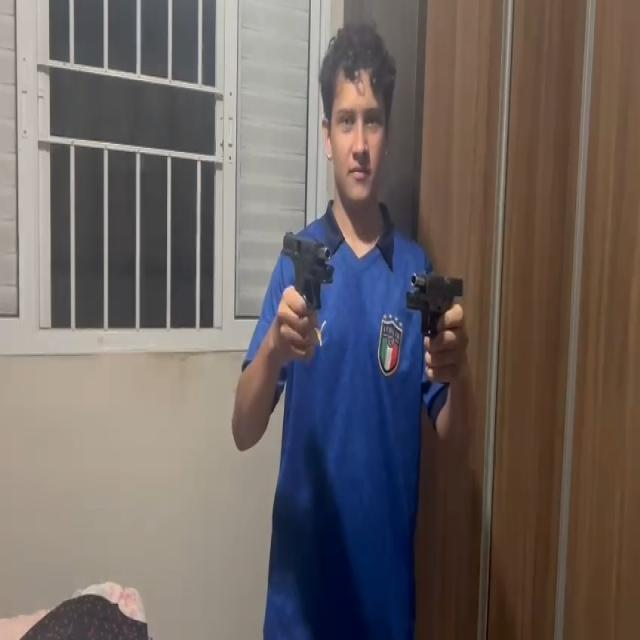gun: (404, 268, 464, 338), (282, 230, 334, 310)
